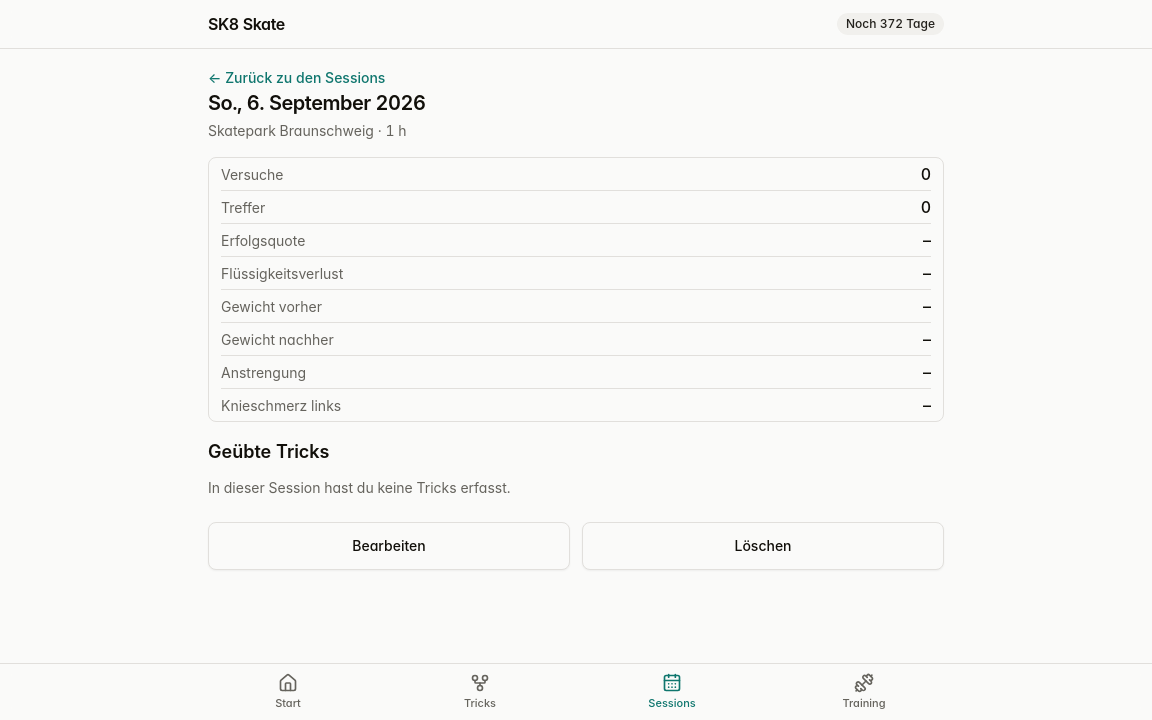
DeleteSessionDialog › Kriterium 9: 'Abbrechen' closes the dialog without sending any request
What coordinates should you click on to do the following:
click the button "Löschen"
I would click on:
 (763, 546)
Its box is [582,522,944,570].
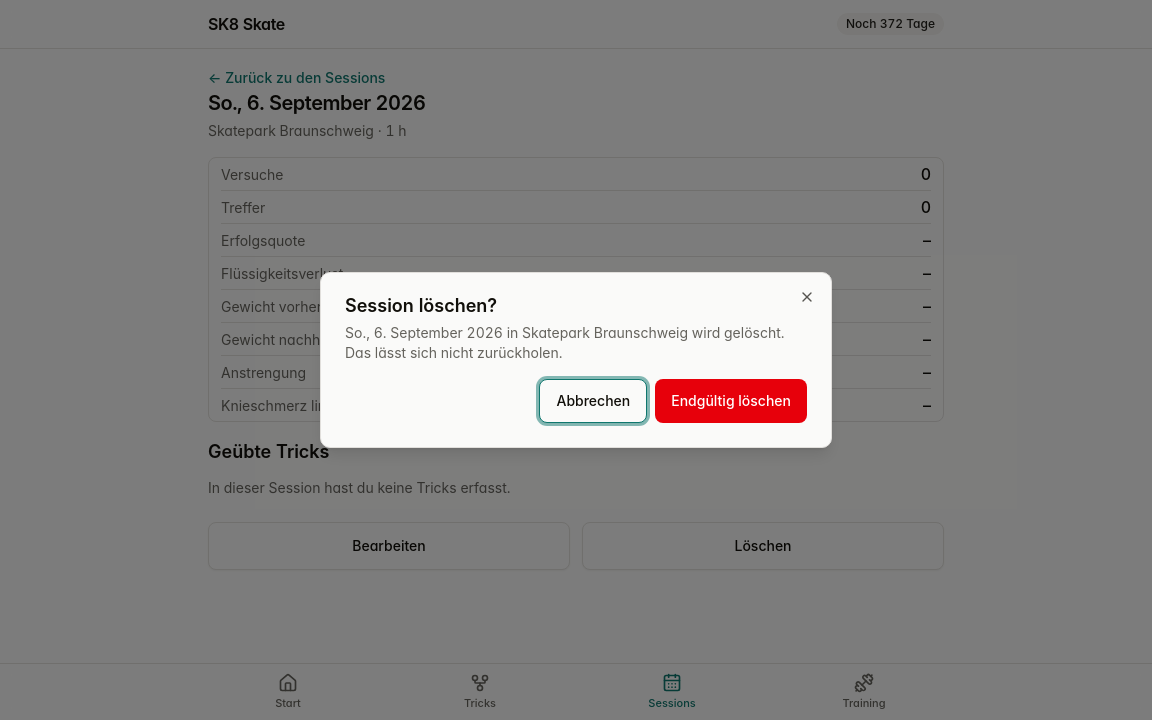
Result: the dialog "Session löschen?" is shown at [320,272,832,448]
What coordinates should you click on to do the following:
click the button "Abbrechen"
I would click on:
 (593, 401)
Its box is [540,379,647,423].
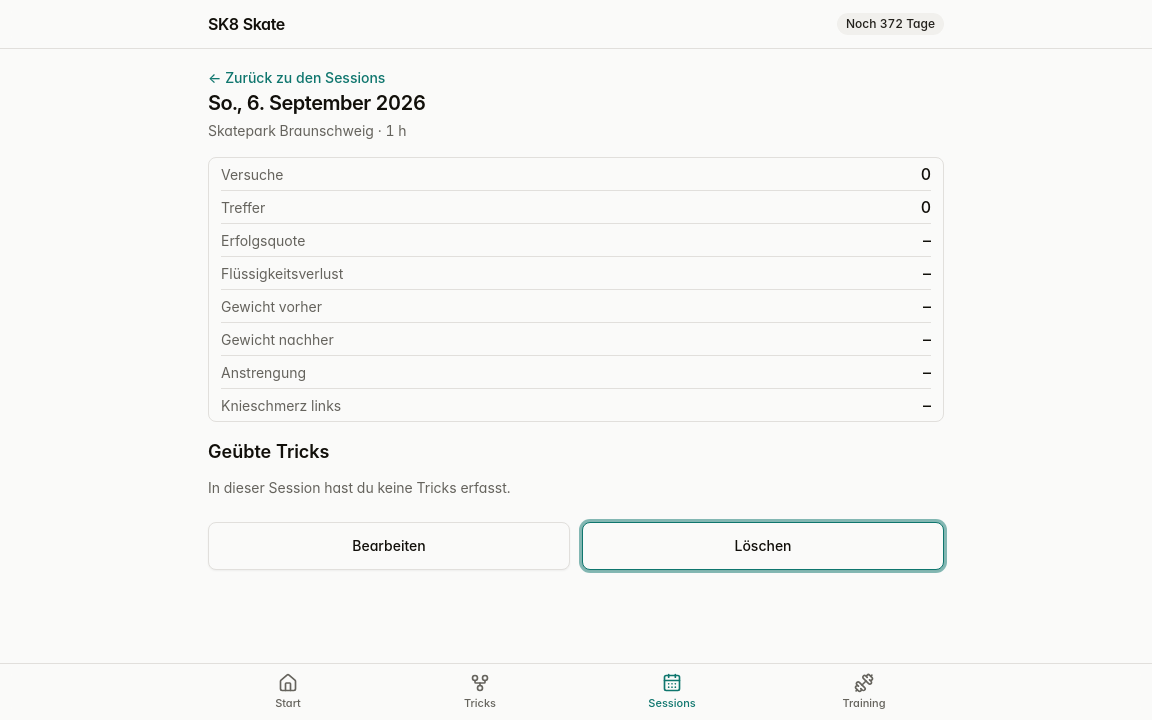
Result: the dialog is gone
